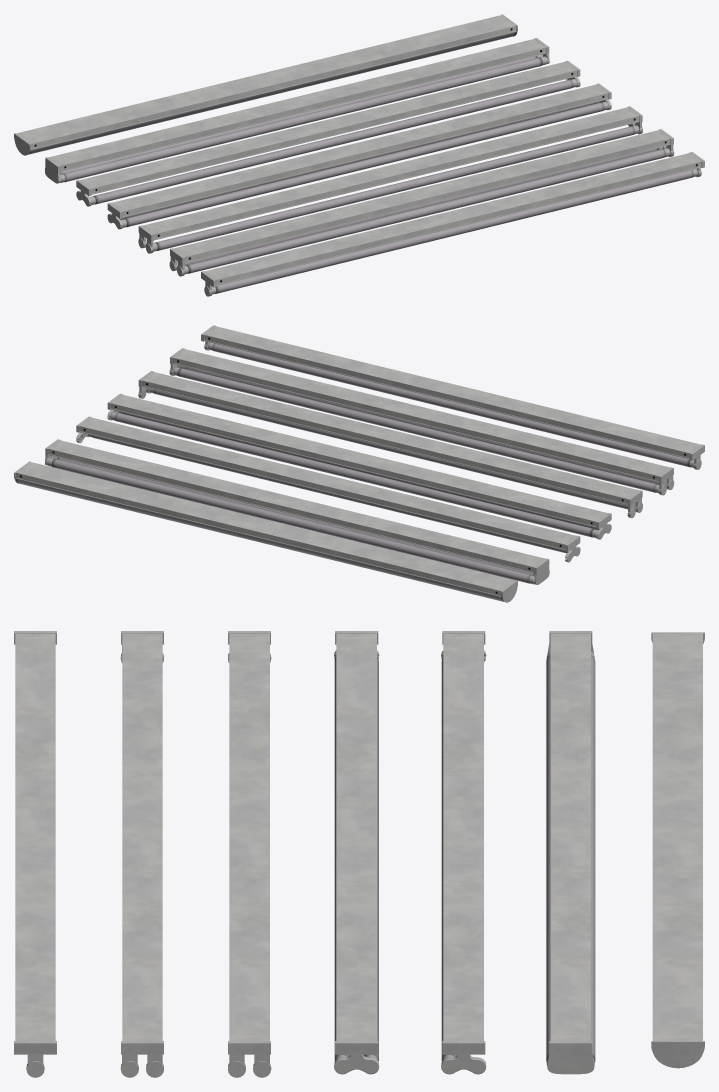
Rendered from mounted_fluorescent_lights_4k.glb.
The picture shows the model from 3 angles, top to bottom: view 1: azimuth 30°, elevation 25°; view 2: azimuth 150°, elevation 25°; view 3: azimuth 270°, elevation 25°; orthographic projection. The views are drawn at different scales.
Visible parts, largest first — view 1: mounted_fluorescent_lights_b, mounted_fluorescent_lights_f, mounted_fluorescent_lights_d, mounted_fluorescent_lights_c, mounted_fluorescent_lights_e, mounted_fluorescent_lights_a, mounted_fluorescent_lights_g; view 2: mounted_fluorescent_lights_b, mounted_fluorescent_lights_f, mounted_fluorescent_lights_d, mounted_fluorescent_lights_a, mounted_fluorescent_lights_g, mounted_fluorescent_lights_c, mounted_fluorescent_lights_e; view 3: mounted_fluorescent_lights_g, mounted_fluorescent_lights_f, mounted_fluorescent_lights_d, mounted_fluorescent_lights_e, mounted_fluorescent_lights_c, mounted_fluorescent_lights_b, mounted_fluorescent_lights_a.
Boxes of the visible parts, box(x1,y1,x2,y2) form: mounted_fluorescent_lights_b: box(169, 129, 674, 276); mounted_fluorescent_lights_f: box(45, 38, 549, 183); mounted_fluorescent_lights_d: box(107, 83, 611, 229); mounted_fluorescent_lights_c: box(138, 106, 642, 253); mounted_fluorescent_lights_e: box(76, 60, 580, 206); mounted_fluorescent_lights_a: box(201, 152, 704, 296); mounted_fluorescent_lights_g: box(14, 14, 517, 155); mounted_fluorescent_lights_b: box(169, 348, 674, 495); mounted_fluorescent_lights_f: box(45, 439, 549, 584); mounted_fluorescent_lights_d: box(107, 393, 611, 539); mounted_fluorescent_lights_a: box(201, 325, 704, 469); mounted_fluorescent_lights_g: box(14, 461, 517, 602); mounted_fluorescent_lights_c: box(138, 371, 642, 518); mounted_fluorescent_lights_e: box(76, 416, 580, 562); mounted_fluorescent_lights_g: box(651, 632, 704, 1068); mounted_fluorescent_lights_f: box(546, 631, 595, 1074); mounted_fluorescent_lights_d: box(334, 631, 379, 1074); mounted_fluorescent_lights_e: box(441, 631, 486, 1074); mounted_fluorescent_lights_c: box(228, 631, 271, 1077); mounted_fluorescent_lights_b: box(120, 631, 163, 1077); mounted_fluorescent_lights_a: box(14, 631, 56, 1077).
Bounding box in the file's own units: 0.9122 × 0.0354 × 0.6454.
2 materials, 2 textured.
